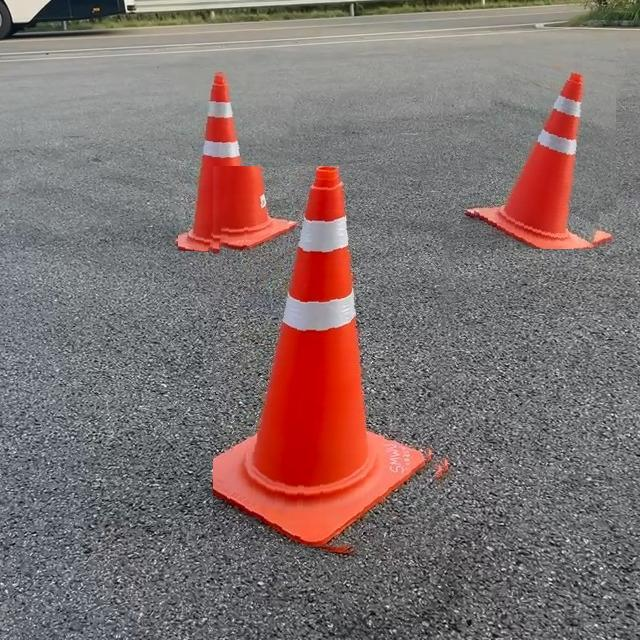fallen_object: (203, 130, 406, 556), (115, 47, 305, 268), (460, 52, 640, 274)
